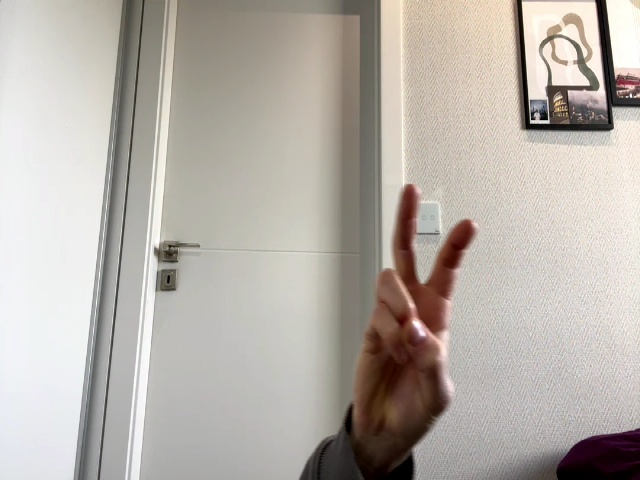H: (354, 184, 480, 443)
